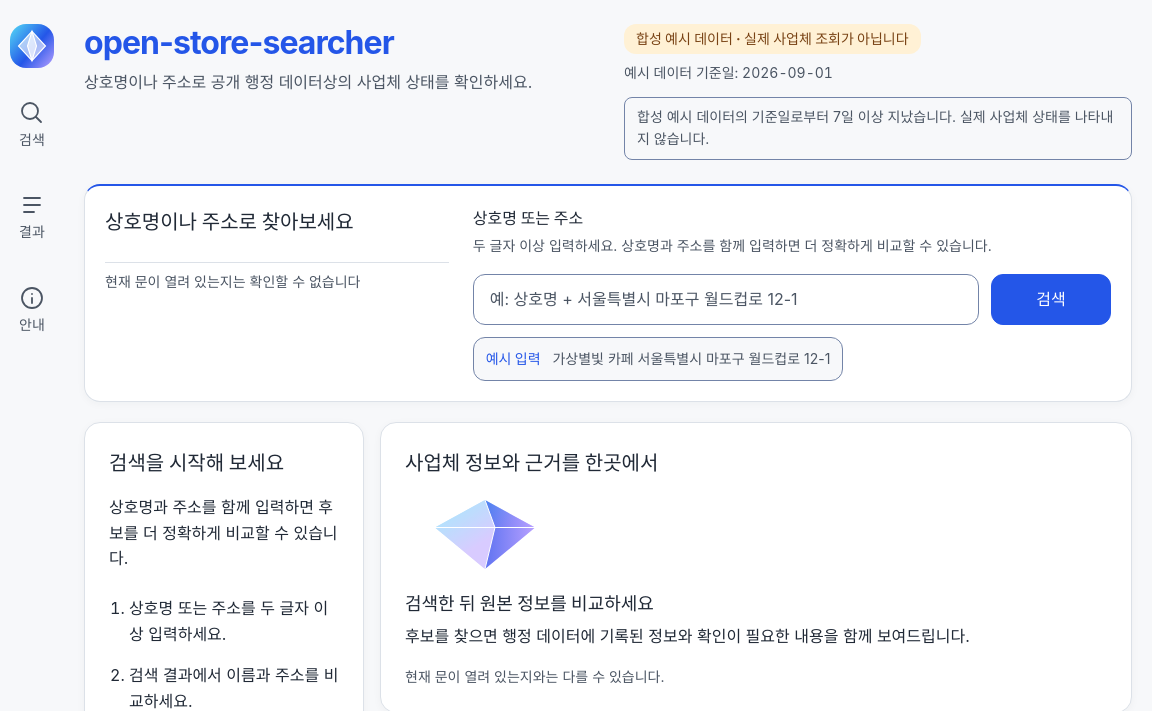
Scenario: App › fills the example without submitting and supports Enter submission
Click the button "예시 입력 가상별빛 카페 서울특별시 마포구 월드컵로 12-1" at (658, 359), box [473, 337, 843, 381]
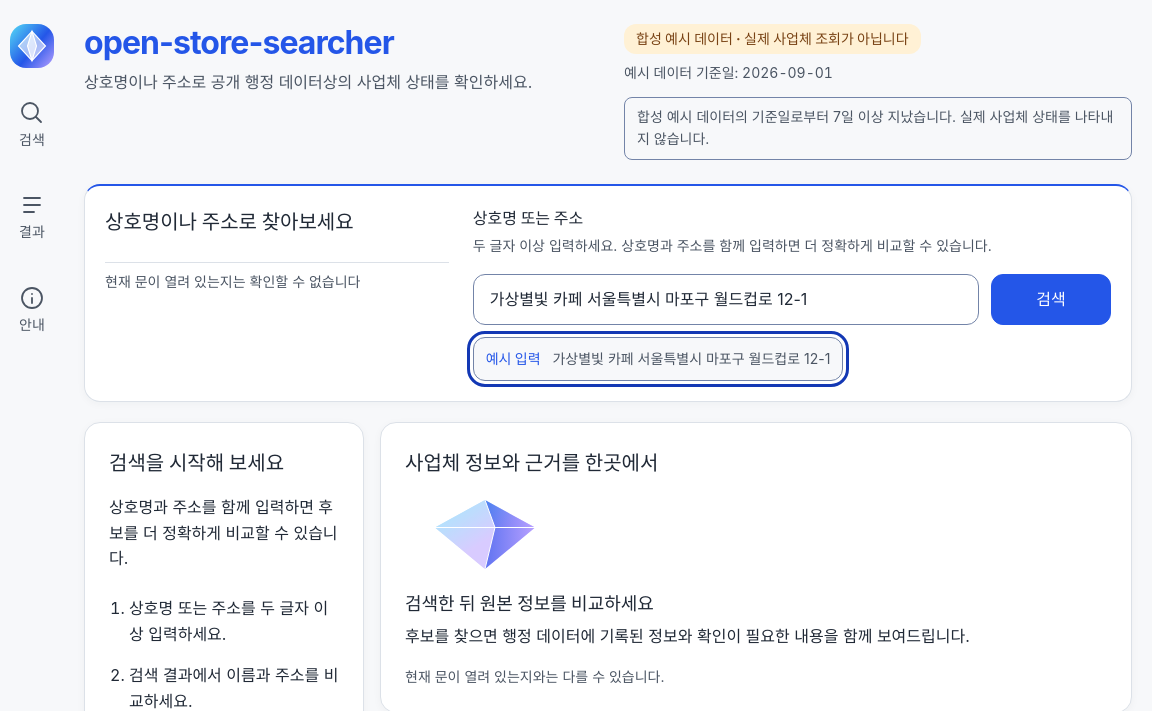
Now the search field holds "가상별빛 카페 서울특별시 마포구 월드컵로 12-1"
Click the search field at (726, 299), box [473, 274, 979, 325]
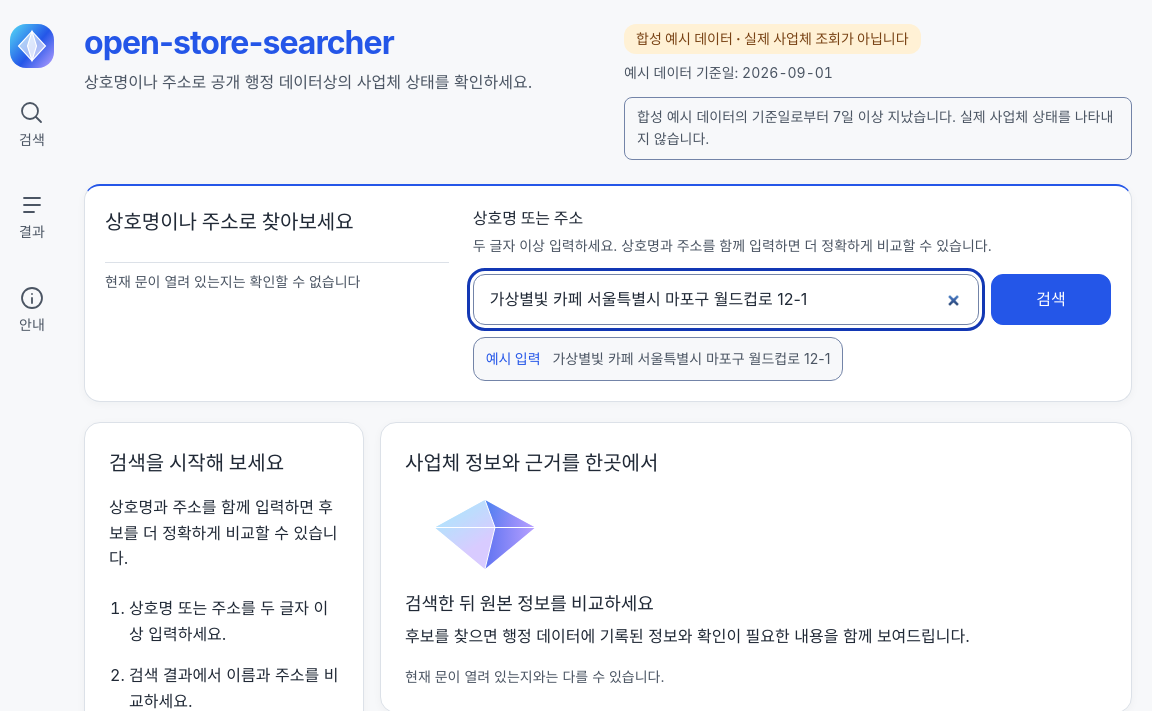
Press Enter
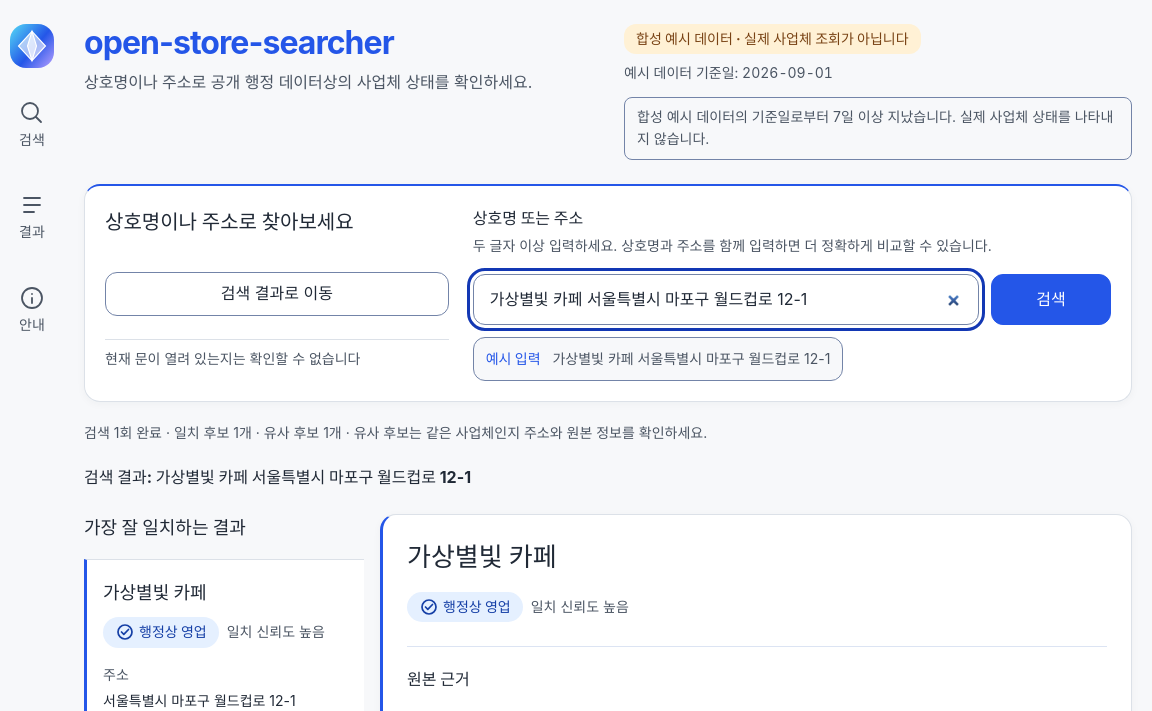
Now the message shows "일치 후보 1개", box [84, 424, 342, 441]
